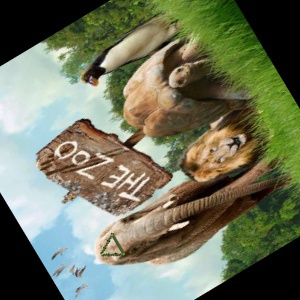triangle: (99, 232, 126, 257)
